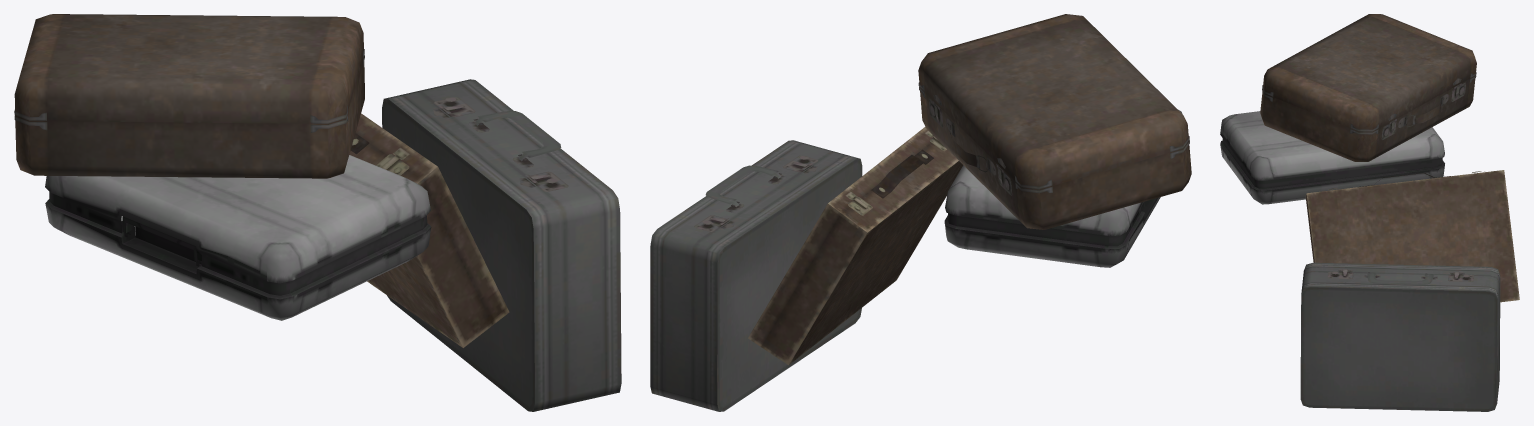
File: ItemSpot.fbx
3 views of the same model, side by side, from view 1: azimuth 30°, elevation 25°; view 2: azimuth 150°, elevation 25°; view 3: azimuth 270°, elevation 25° (orthographic). The views are drawn at different scales.
Parts seen in each view (by area): view 1: ItemBox_Suitcase_01, ItemBox_Suitcase_02, ItemBox_Suitcase_04, ItemBox_Suitcase_03; view 2: ItemBox_Suitcase_01, ItemBox_Suitcase_02, ItemBox_Suitcase_03, ItemBox_Suitcase_04; view 3: ItemBox_Suitcase_02, ItemBox_Suitcase_01, ItemBox_Suitcase_03, ItemBox_Suitcase_04.
Part boxes in pixels (x1,y1,x2,y2): ItemBox_Suitcase_01: (14, 14, 364, 178); ItemBox_Suitcase_02: (382, 79, 621, 411); ItemBox_Suitcase_04: (45, 155, 431, 320); ItemBox_Suitcase_03: (349, 113, 509, 347); ItemBox_Suitcase_01: (918, 14, 1191, 229); ItemBox_Suitcase_02: (650, 140, 862, 411); ItemBox_Suitcase_03: (748, 126, 962, 365); ItemBox_Suitcase_04: (944, 109, 1182, 267); ItemBox_Suitcase_02: (1300, 262, 1500, 411); ItemBox_Suitcase_01: (1260, 14, 1476, 161); ItemBox_Suitcase_03: (1305, 170, 1519, 302); ItemBox_Suitcase_04: (1220, 111, 1444, 204).
Bounding box in the file's own units: 1.9 × 1.35 × 1.49.
1 material, 1 textured.
